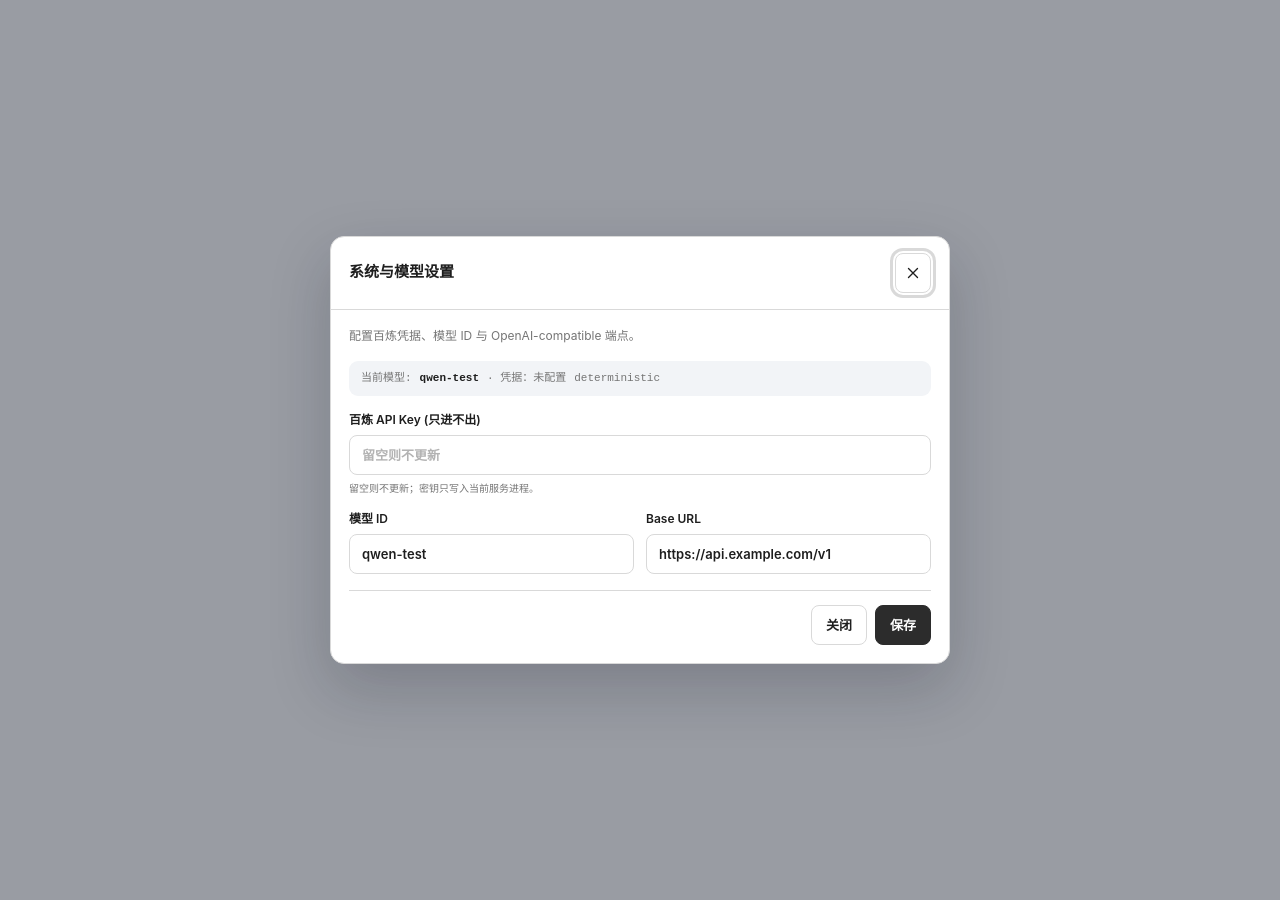
Test case: SettingsDialog › 保存失败时保留服务端反馈
Expected: the field with test id "settings-model-id" holds "qwen-test", [349, 534, 634, 574]
Click the button with test id "save-settings": x=903, y=625 [875, 605, 931, 645]
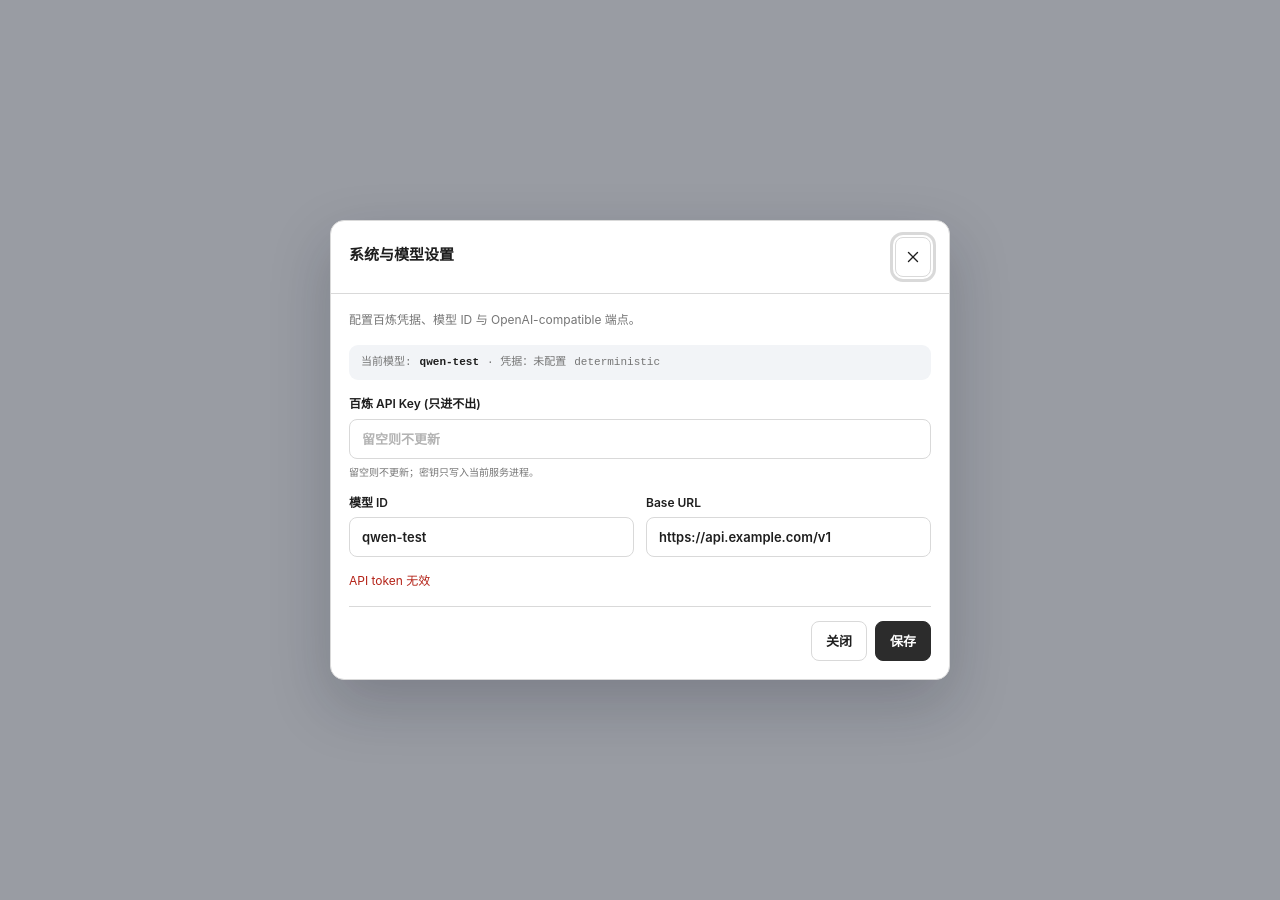
Expected: the message reads "API token 无效", [349, 574, 430, 588]
